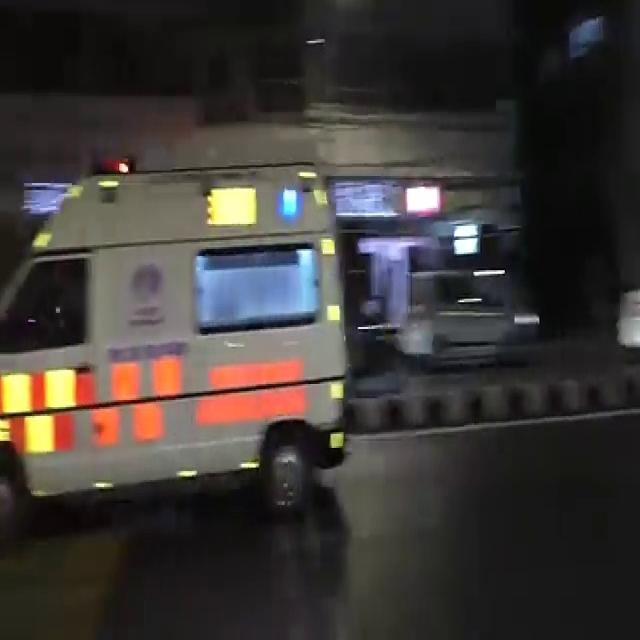ambulance: (2, 164, 362, 503)
